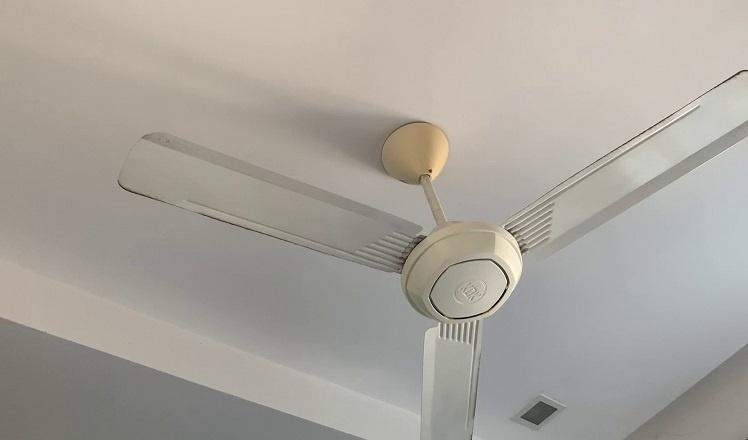fan: (97, 58, 748, 440)
light: (490, 393, 568, 432)
